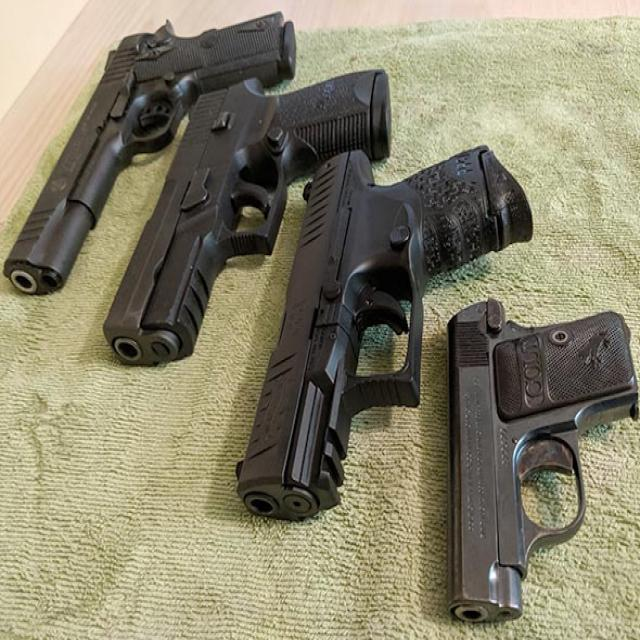Weapon: (238, 146, 530, 519), (104, 70, 388, 364), (4, 12, 294, 294), (448, 299, 637, 621)
